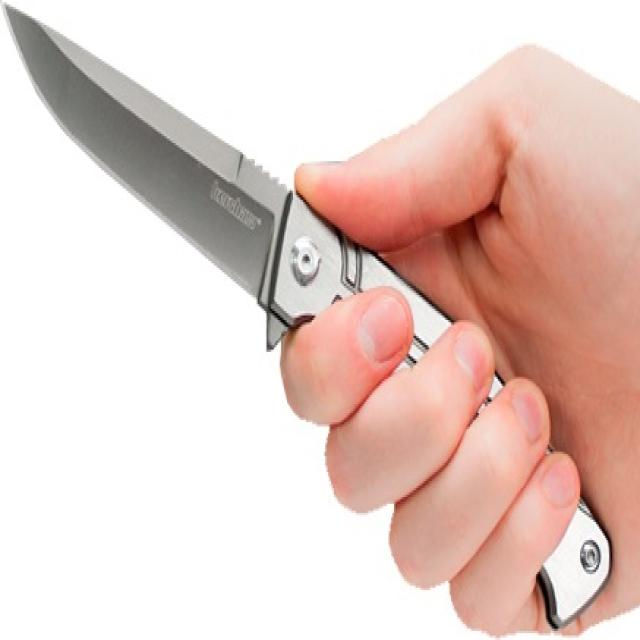knife: (4, 2, 614, 626)
